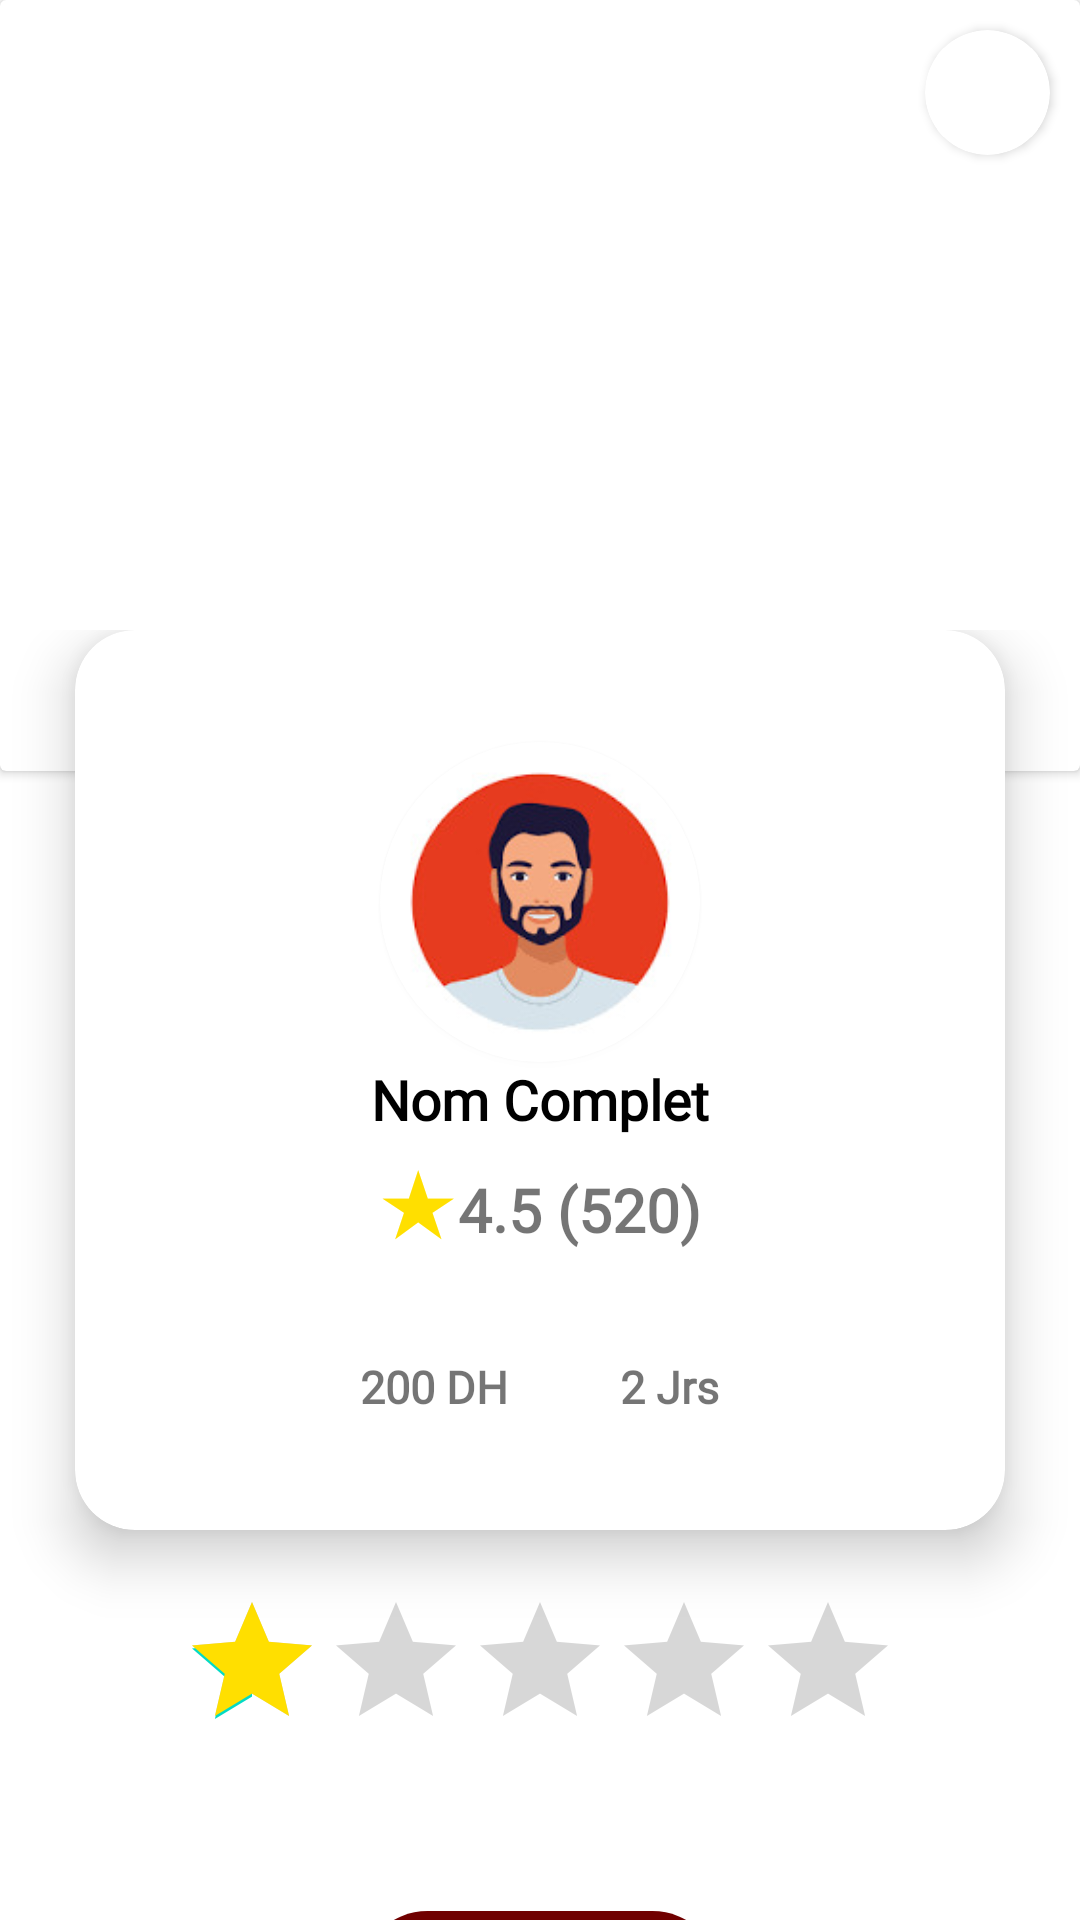

Icons on this 1080 x 1920 Android screen, each with its box as [x1=x1, y1=y1, x2=x2, y2=y2]:
profil: [x1=410, y1=773, x2=669, y2=1029]
